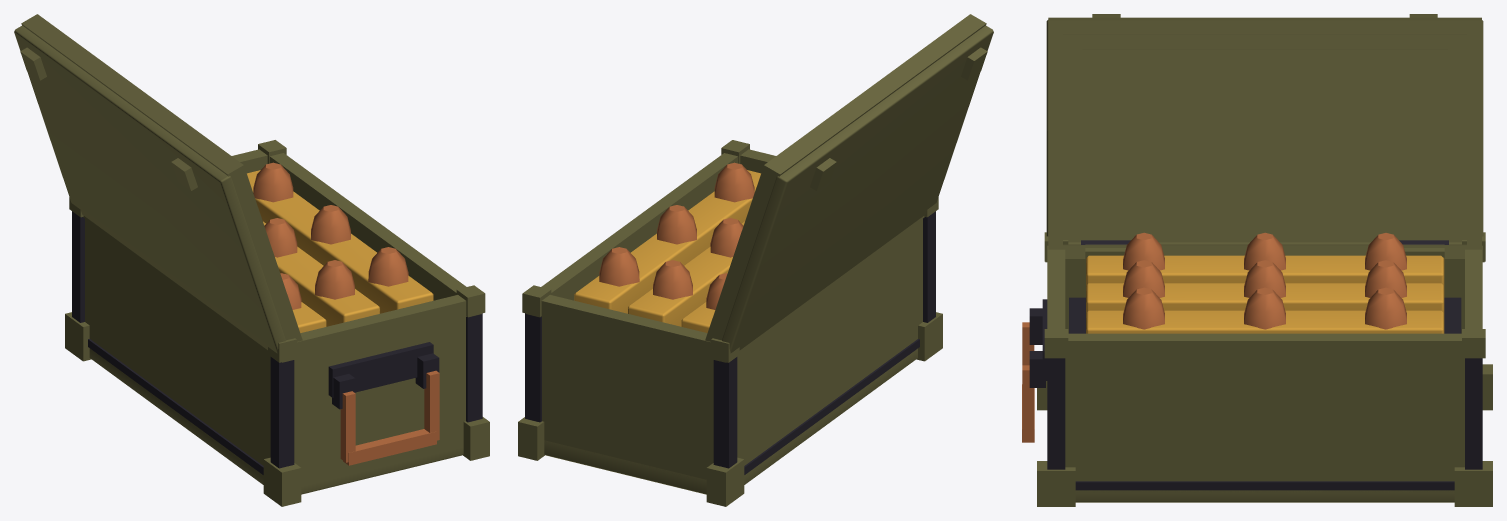
The model's file is pick.pistol-ammo.glb.
3 views of the same model, side by side, from view 1: azimuth 30°, elevation 25°; view 2: azimuth 150°, elevation 25°; view 3: azimuth 270°, elevation 25° (orthographic). The views are drawn at different scales.
Size of the model in its own units: 0.4588 by 0.5437 by 0.6385.
